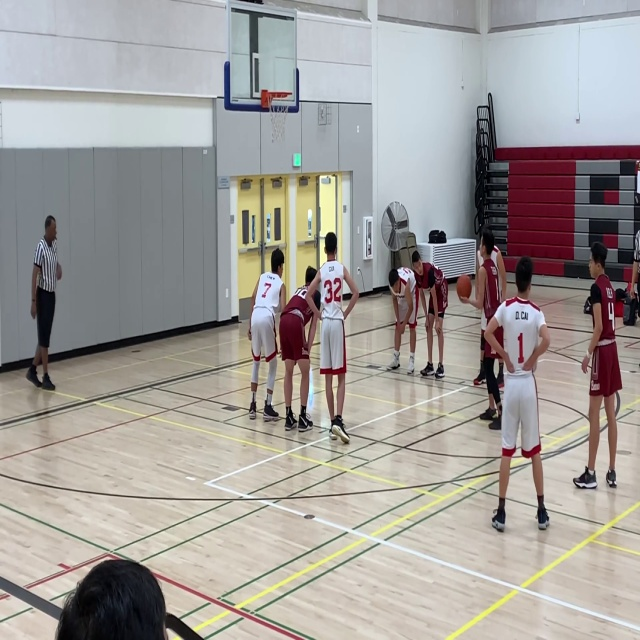Basketball: (456, 275, 471, 298)
